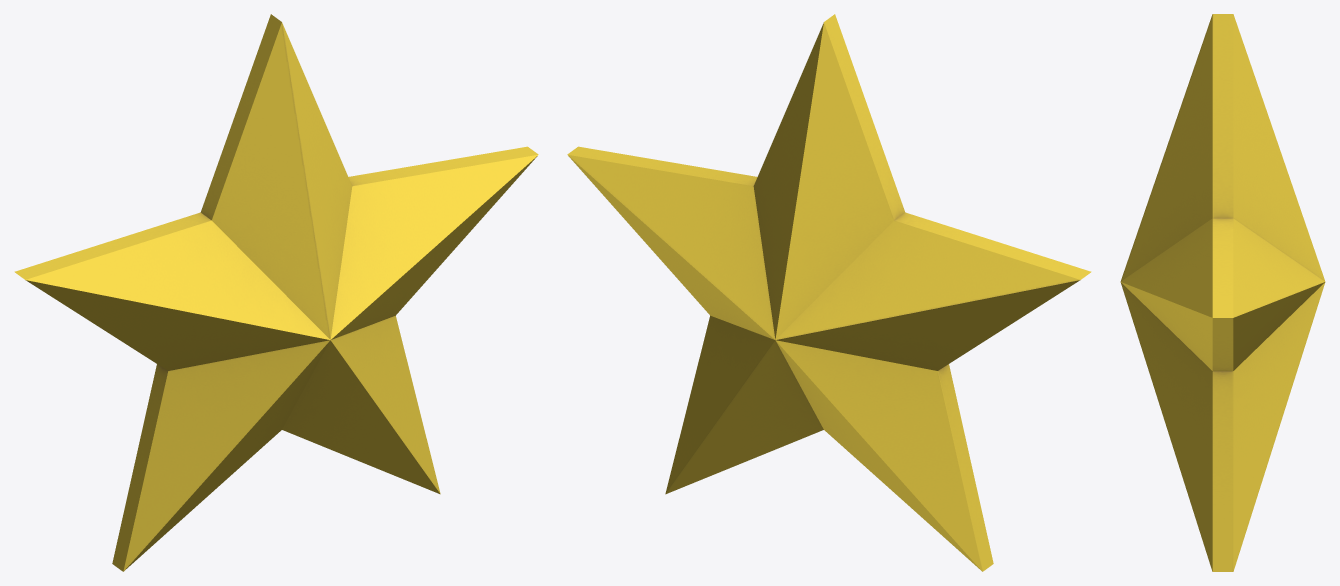
File: Star.fbx
3 renders of one model, left to right at view 1: azimuth 30°, elevation 25°; view 2: azimuth 150°, elevation 25°; view 3: azimuth 270°, elevation 25°, orthographic. The views are drawn at different scales.
Parts seen in each view (by area): view 1: Star; view 2: Star; view 3: Star.
Part boxes in pixels (box(x1,y1,x2,y2)): Star: box(14, 14, 538, 571); Star: box(567, 14, 1091, 571); Star: box(1120, 14, 1325, 571).
Bounding box in the file's own units: 0.5731 × 1.57 × 1.49.
